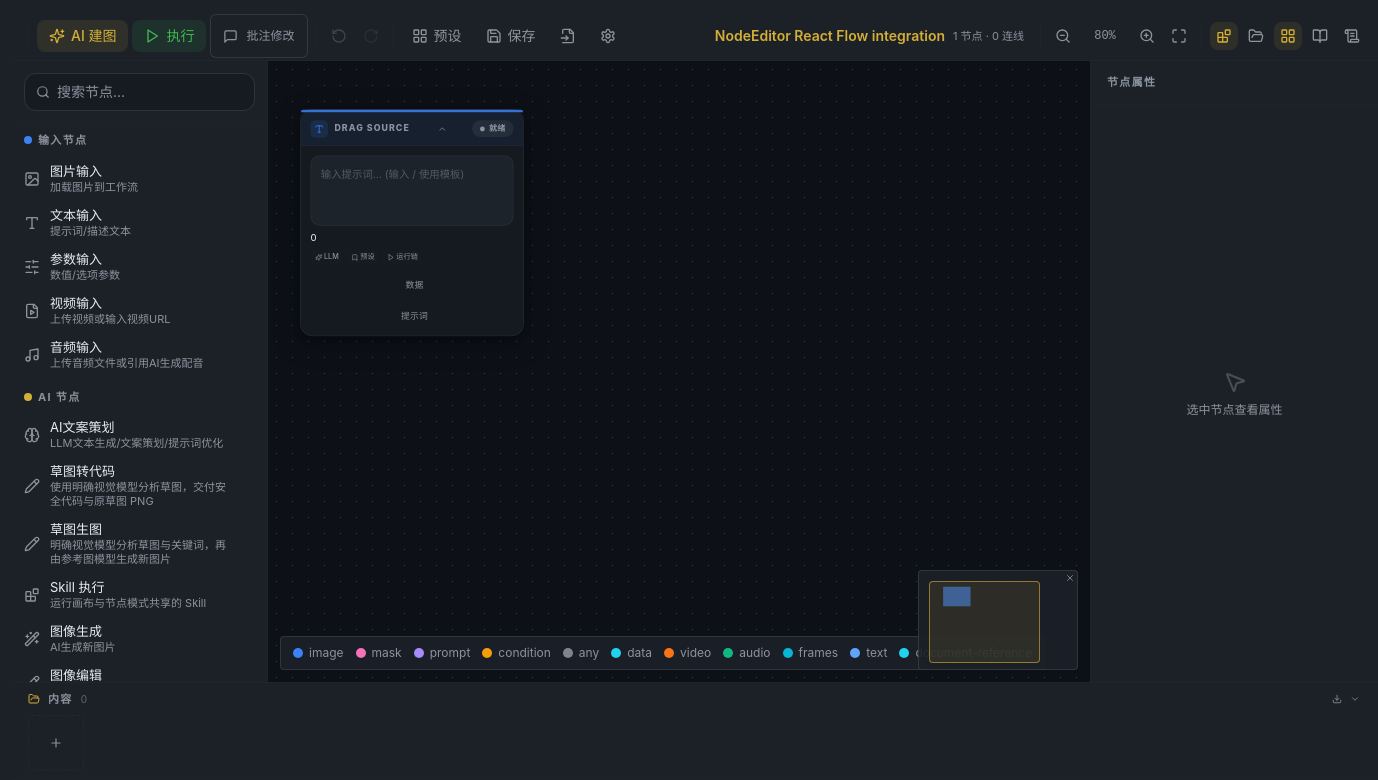
NodeEditor react-flow-v2 integration › synchronizes a React Flow node click with the domain selection and property panel
The width and height of the screenshot is (1378, 780).
Expected: the text "选中节点查看属性" is shown, [1186,402,1282,418]
Click the element showing "DRAG SOURCE 就绪 0 LLM 预设 运行链 数据 提示词": {"x": 412, "y": 189} [300,109,524,269]
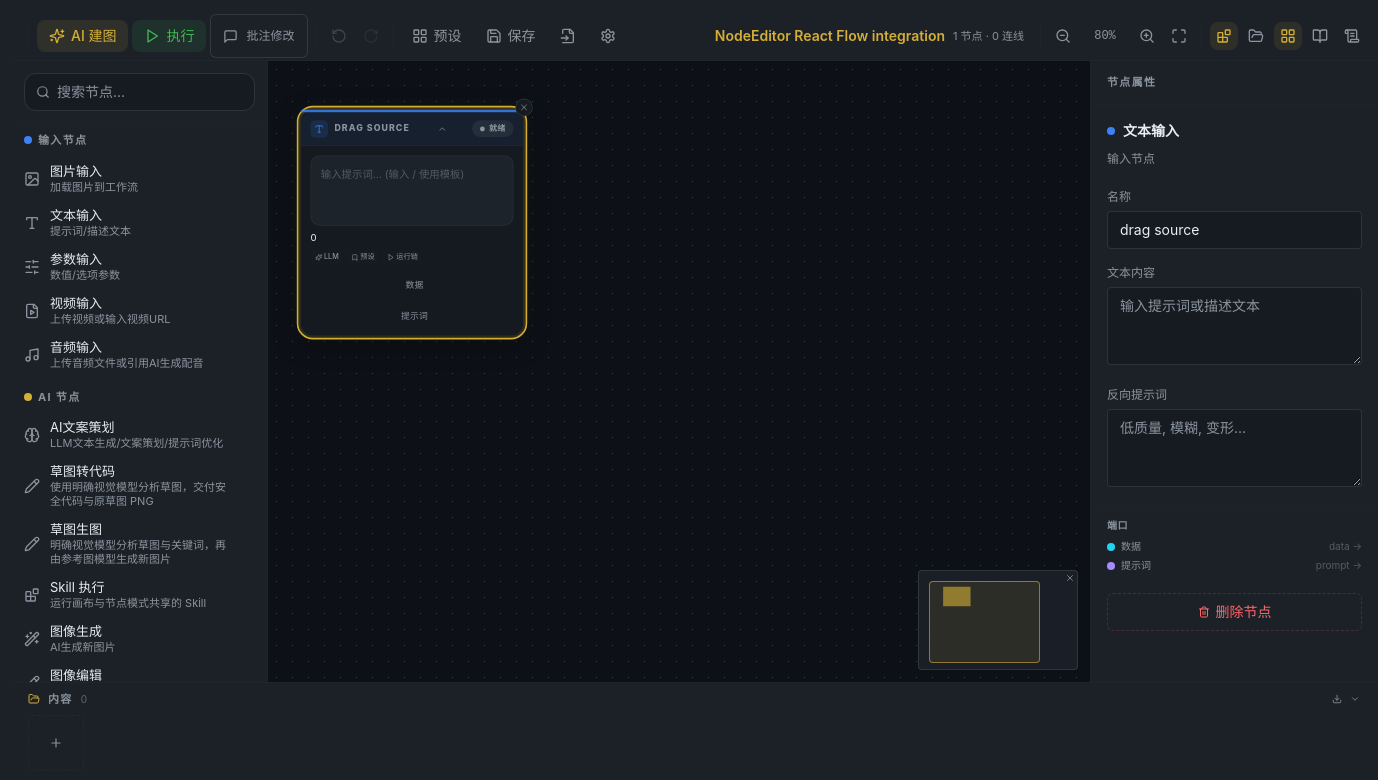
Expected: the text "选中节点查看属性" is gone
